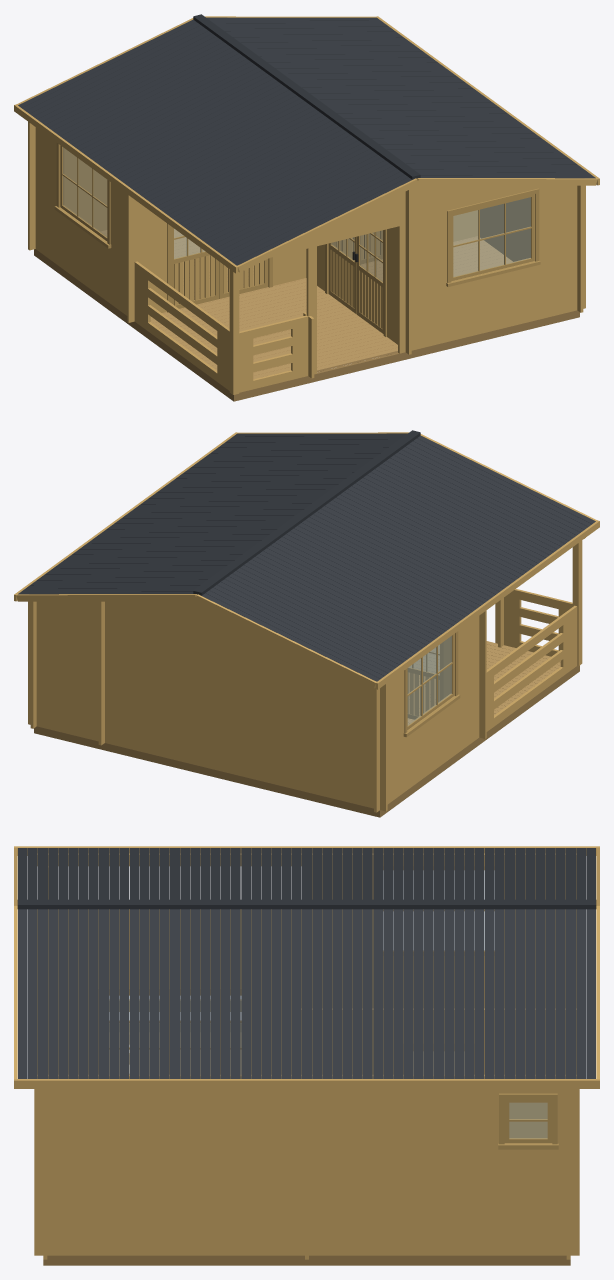
File: малия_6_6_44_мм_встроенная_терраса.glb
3 renders of one model, top to bottom at view 1: azimuth 30°, elevation 25°; view 2: azimuth 150°, elevation 25°; view 3: azimuth 270°, elevation 25°, orthographic. The views are drawn at different scales.
Parts seen in each view (by area): view 1: roof, walls, floor, Малия 6×6 (44 мм, встроенная терраса), object 132, object 144, object 96, object 139; view 2: roof, walls, Малия 6×6 (44 мм, встроенная терраса), object 144, floor; view 3: roof, walls, Малия 6×6 (44 мм, встроенная терраса), object 156, floor.
Part boxes in pixels (x1,y1,x2,y2): roof: [14, 14, 599, 273]; walls: [28, 122, 585, 394]; floor: [101, 229, 512, 379]; Малия 6×6 (44 мм, встроенная терраса): [34, 249, 579, 401]; object 132: [453, 197, 530, 276]; object 144: [63, 147, 106, 236]; object 96: [360, 230, 382, 281]; object 139: [446, 260, 540, 286]; roof: [14, 430, 599, 689]; walls: [28, 538, 584, 812]; Малия 6×6 (44 мм, встроенная терраса): [34, 665, 579, 817]; object 144: [408, 636, 451, 725]; floor: [407, 641, 560, 724]; roof: [14, 846, 599, 1088]; walls: [34, 853, 579, 1259]; Малия 6×6 (44 мм, встроенная терраса): [43, 1035, 570, 1265]; object 156: [509, 1103, 547, 1138]; floor: [109, 1033, 464, 1073].
Size of the model in its own units: 6.05 by 3.03 by 6.39.
